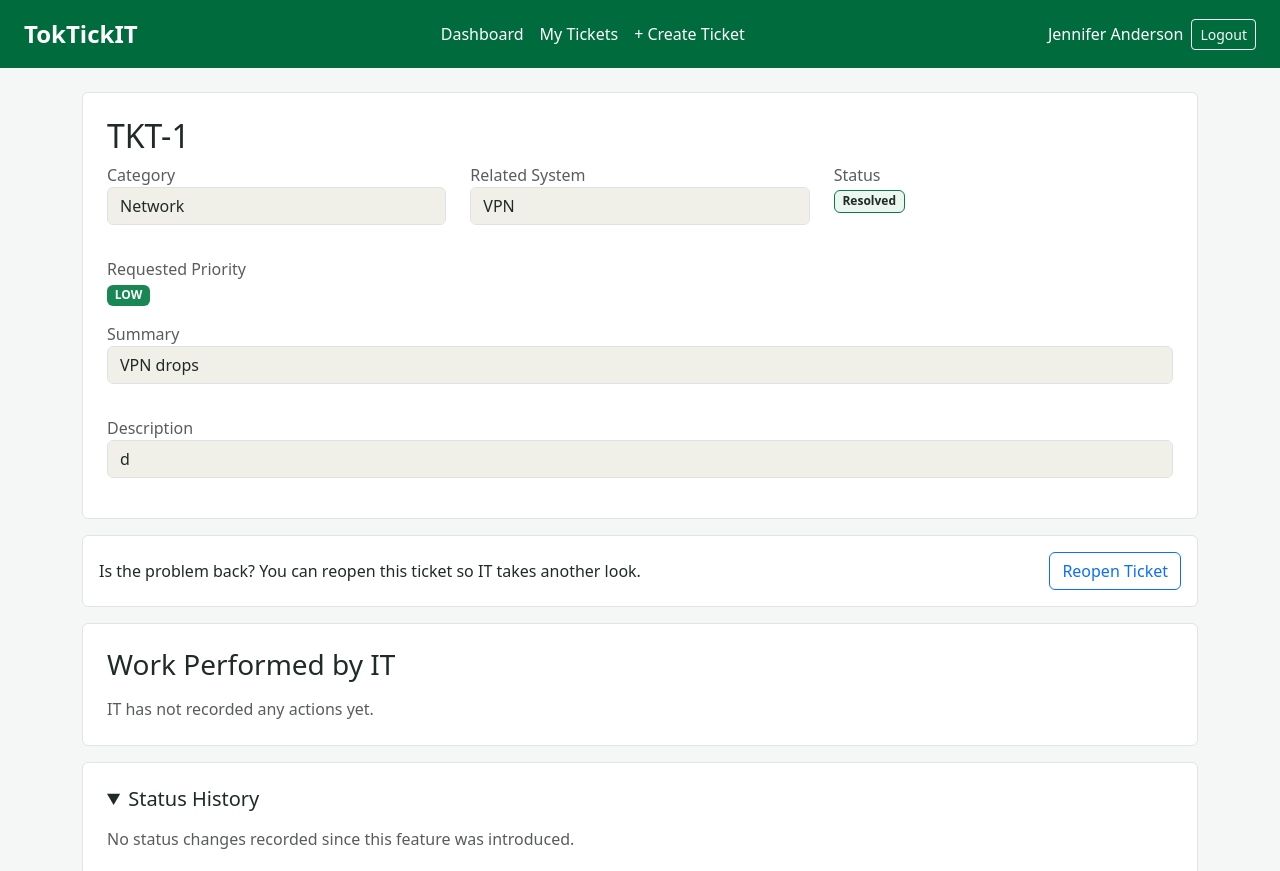
Test: Ticket workflow UI › lets the Requester reopen a Resolved ticket after confirming (FR-08, AC-15)
This screenshot has width=1280, height=871.
Click the button "Reopen Ticket".
click(1115, 571)  # box [1049, 552, 1181, 590]
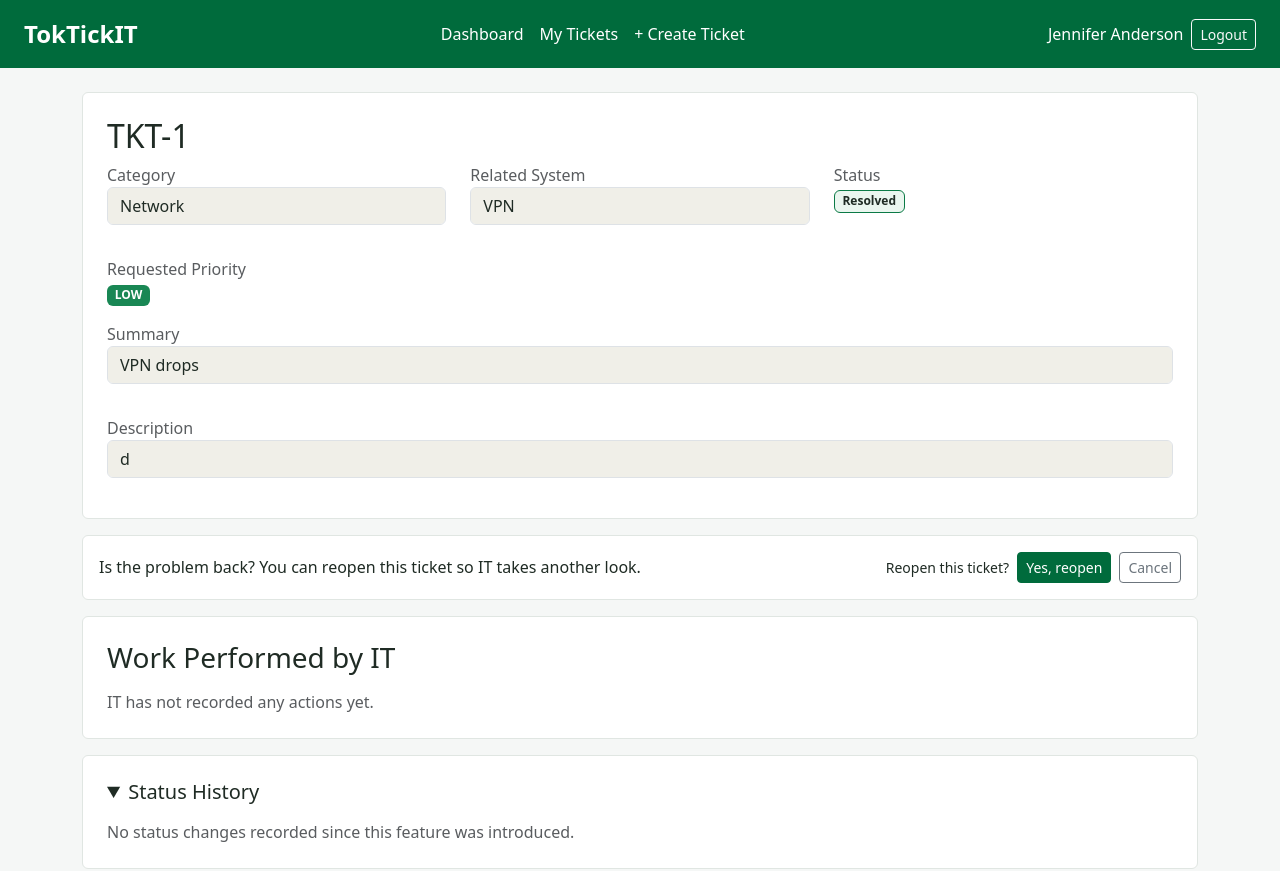
Click the button "Yes, reopen".
click(1064, 567)  # box [1017, 552, 1112, 583]
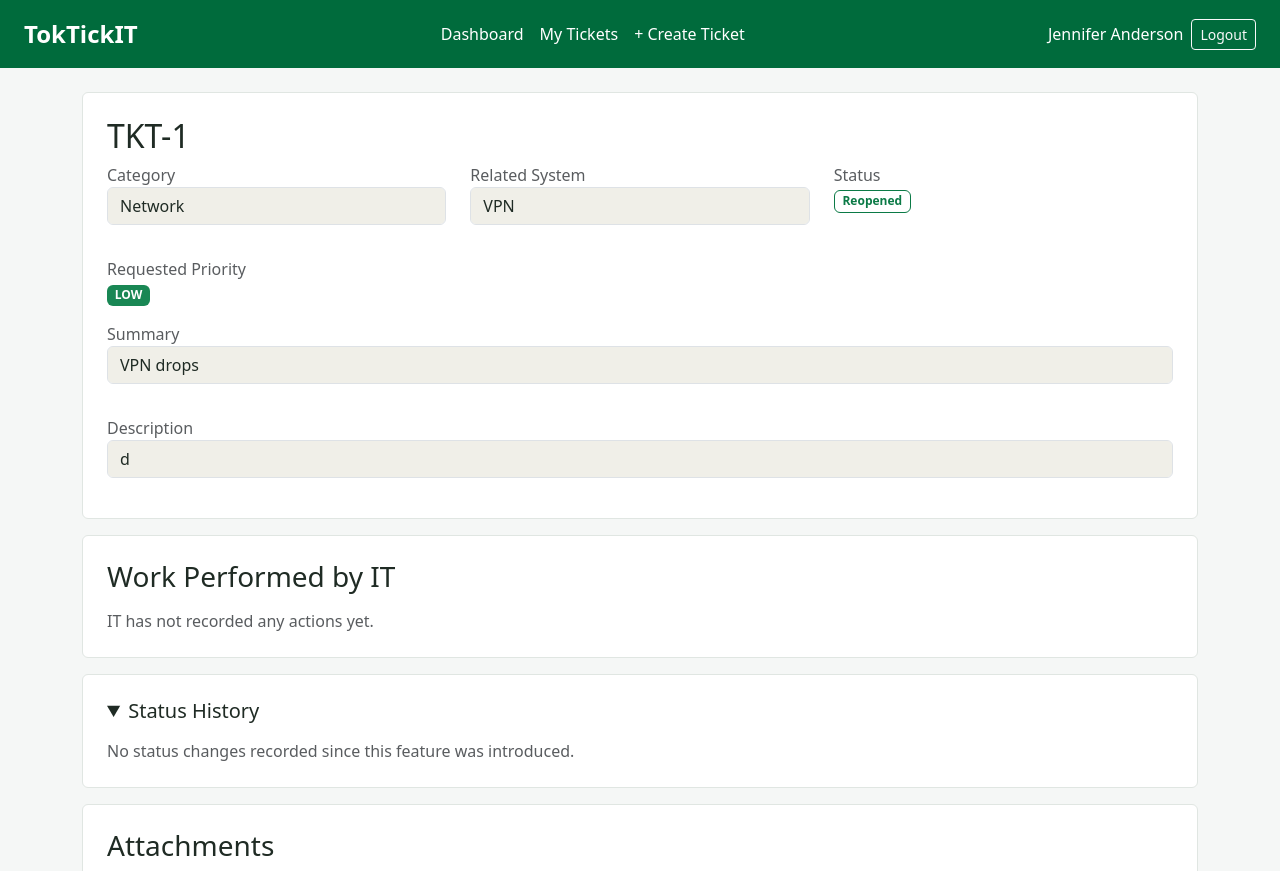
Expected: the button "Reopen Ticket" is not shown
Now the text with test id "ticket-status-badge" reads "Reopened", box [842, 192, 902, 209]
